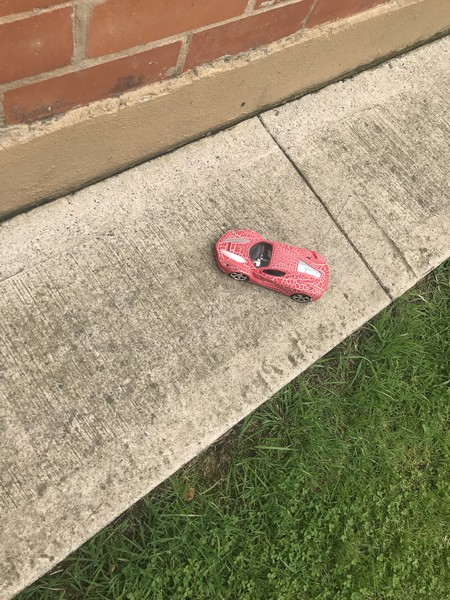RC: (211, 229, 335, 304)
